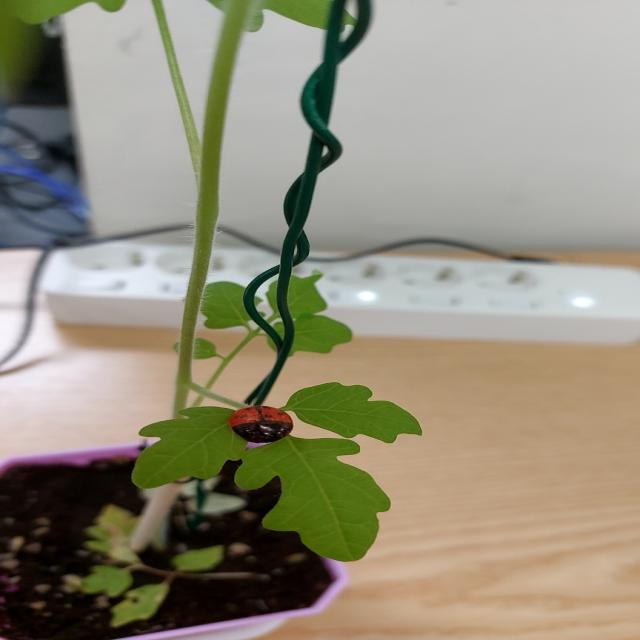bug: (213, 403, 312, 454)
